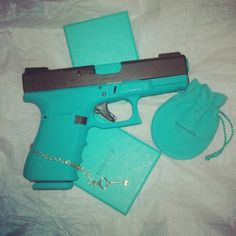gun: (21, 50, 196, 198)
